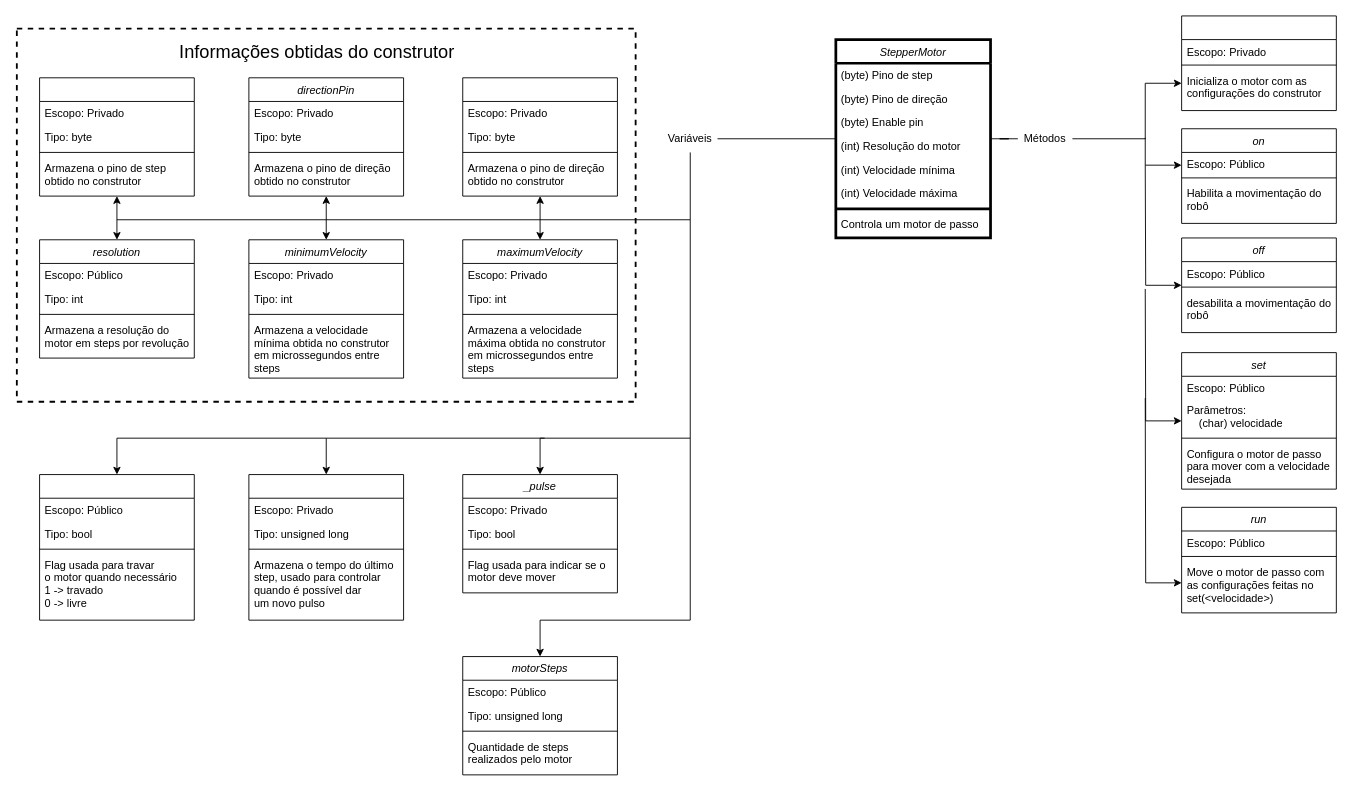
Image size: 1352x794. Some labels were removed from this diagram. Each missing label, with the box of its shape:
enablePin: (462, 77, 617, 196)
init: (1181, 15, 1336, 111)
lastStep: (248, 474, 404, 620)
lock: (39, 474, 194, 620)
stepPin: (39, 77, 194, 196)
